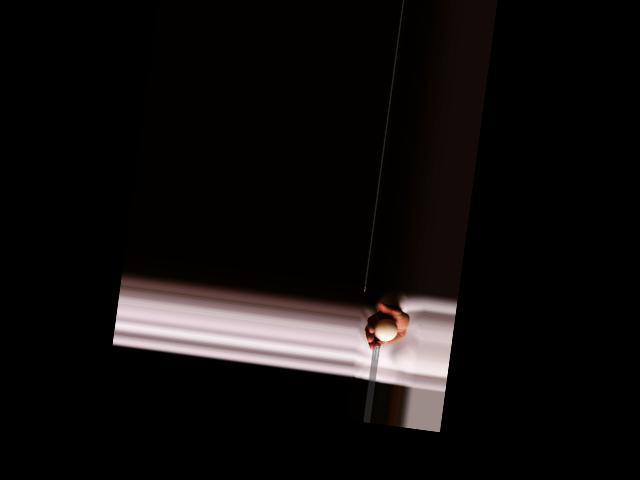egg: (372, 317, 398, 343)
